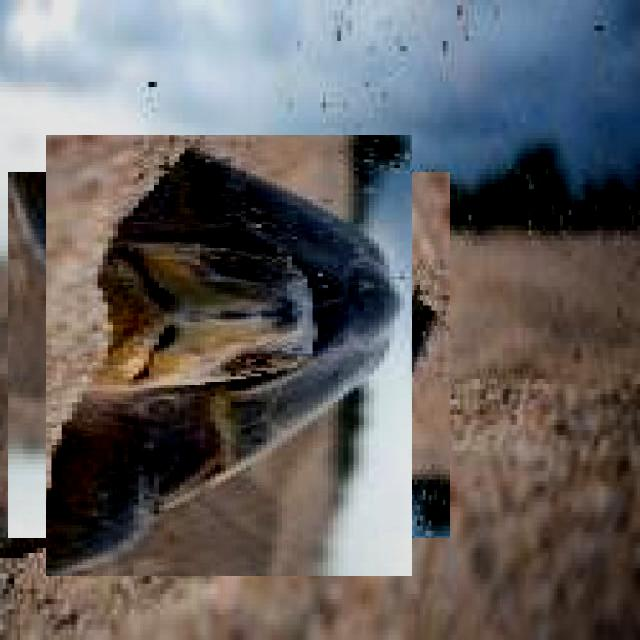Sea turtle: (28, 153, 432, 558)
